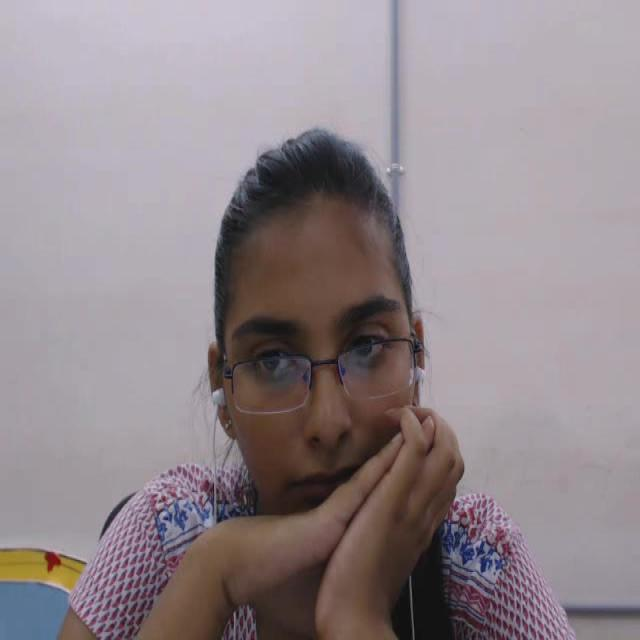Bored: (179, 109, 458, 591)
